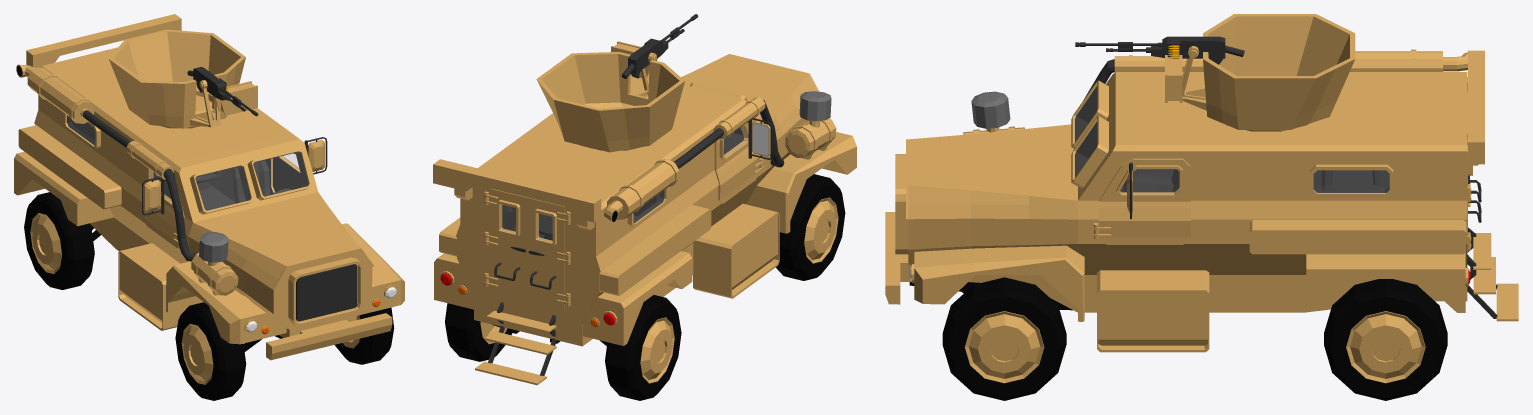
3 renders of one model, left to right at view 1: azimuth 30°, elevation 25°; view 2: azimuth 150°, elevation 25°; view 3: azimuth 270°, elevation 25°, orthographic. The views are drawn at different scales.
Parts seen in each view (by area): view 1: Plane, Cube, Cylinder.004, Cylinder.001, Cylinder.002, Plane.003, Plane.002, Plane.001, Cube.002, Plane.008, Cylinder; view 2: Plane, Cube, Cylinder.004, Cylinder.001, Cylinder.002, Plane.004, Plane.007, Plane.001, Cylinder.003, Cube.002, Plane.002; view 3: Plane, Cube, Cylinder, Cylinder.003, Plane.008, Cylinder.004, Plane.002, Cube.002, Plane.003.
Boxes of the visible parts, bbox=[...] form: Plane: bbox=[14, 47, 404, 360]; Cube: bbox=[109, 29, 245, 128]; Cylinder.004: bbox=[16, 14, 238, 295]; Cylinder.001: bbox=[24, 192, 94, 289]; Cylinder.002: bbox=[175, 302, 246, 400]; Plane.003: bbox=[67, 116, 307, 209]; Plane.002: bbox=[67, 115, 308, 210]; Plane.001: bbox=[142, 167, 184, 247]; Cube.002: bbox=[187, 67, 258, 116]; Plane.008: bbox=[273, 137, 327, 192]; Cylinder: bbox=[334, 307, 394, 364]; Plane: bbox=[434, 54, 856, 385]; Cube: bbox=[536, 49, 684, 152]; Cylinder.004: bbox=[433, 91, 836, 229]; Cylinder.001: bbox=[605, 295, 681, 400]; Cylinder.002: bbox=[776, 174, 845, 280]; Plane.004: bbox=[484, 188, 527, 300]; Plane.007: bbox=[528, 197, 569, 309]; Plane.001: bbox=[714, 118, 772, 203]; Cylinder.003: bbox=[445, 303, 512, 361]; Cube.002: bbox=[611, 14, 698, 78]; Plane.002: bbox=[502, 127, 744, 240]; Plane: bbox=[885, 72, 1518, 352]; Cube: bbox=[1182, 14, 1355, 131]; Cylinder: bbox=[942, 277, 1066, 400]; Cylinder.003: bbox=[1324, 279, 1447, 400]; Plane.008: bbox=[1094, 158, 1190, 244]; Cylinder.004: bbox=[963, 49, 1484, 165]; Plane.002: bbox=[1075, 86, 1389, 192]; Cube.002: bbox=[1075, 36, 1244, 102]; Plane.003: bbox=[1075, 87, 1388, 192].
Bounding box in the file's own units: 253 × 323 × 597.
